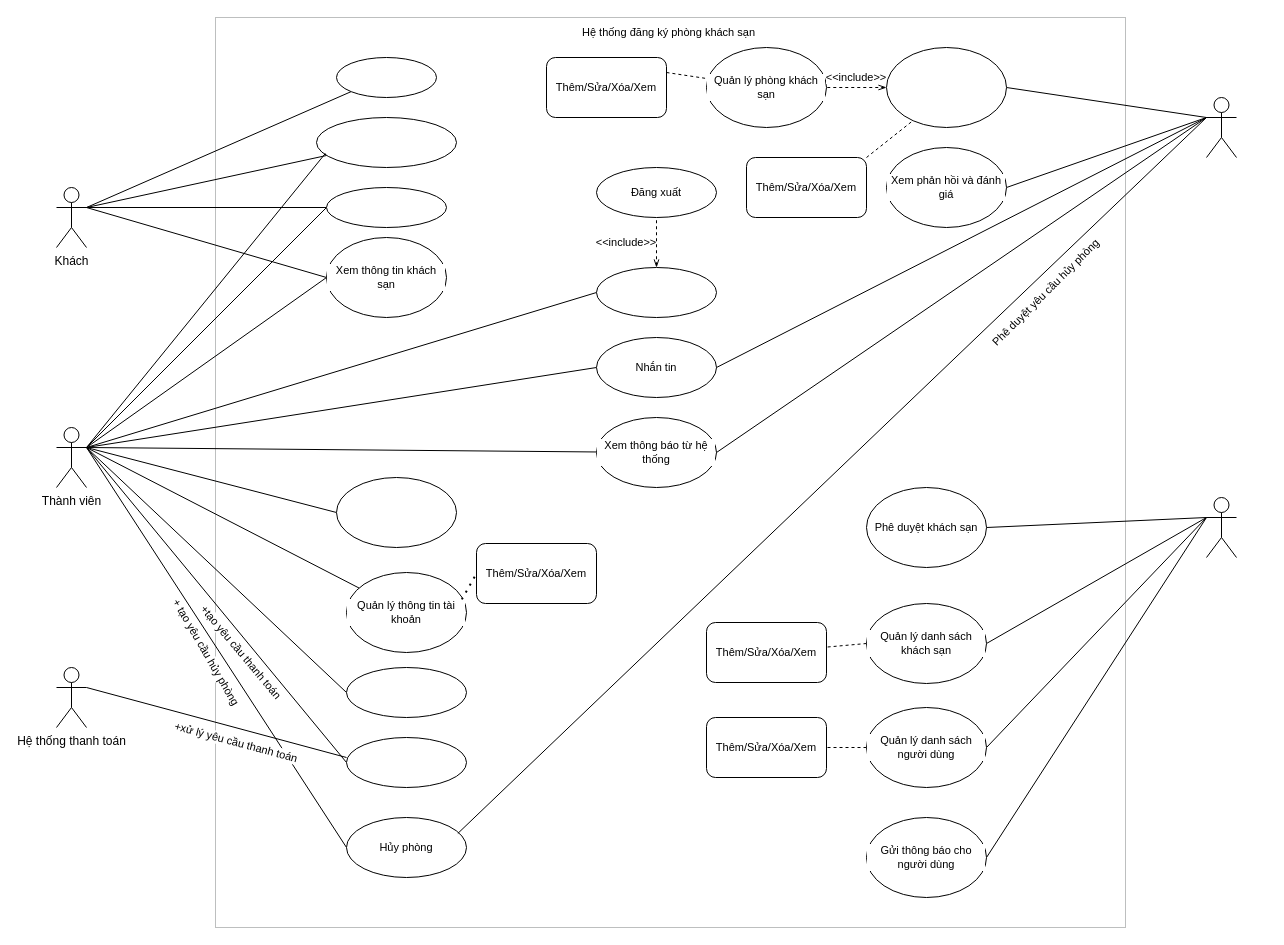
This 1284x945 diagram has some shape labels left out. Each missing label, with the centre of its shape:
Admin: the point at 1221,527
Quản lý khách sạn: the point at 1221,127
Quản lý thông tin khách sạn: the point at 946,87
Thanh toán: the point at 406,762
Tìm kiếm khách sạn: the point at 386,207
Xem danh sách khách sạn: the point at 386,142
Đánh giá khách sạn: the point at 396,512
Đăng ký: the point at 386,77
Đăng nhập: the point at 656,292
Đặt phòng: the point at 406,692
